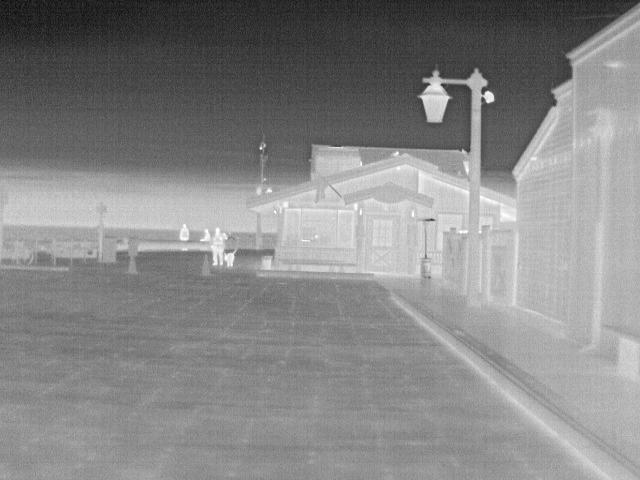dog: (222, 250, 238, 268)
person: (209, 225, 227, 266), (177, 222, 193, 242), (200, 226, 216, 244)
